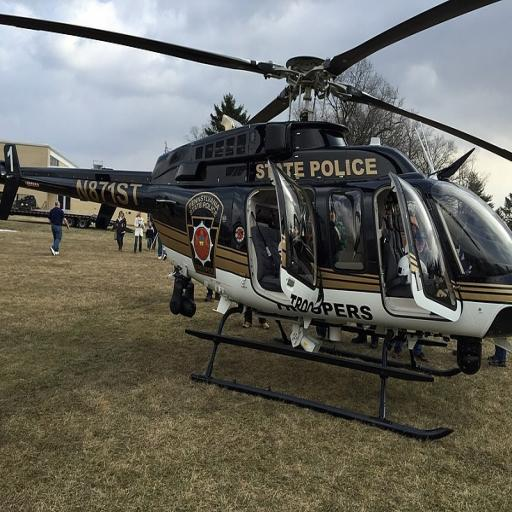helicopter: (2, 8, 512, 442)
